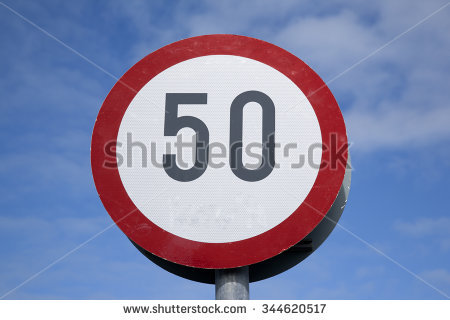Speed_limit_50km: (91, 36, 349, 270)
